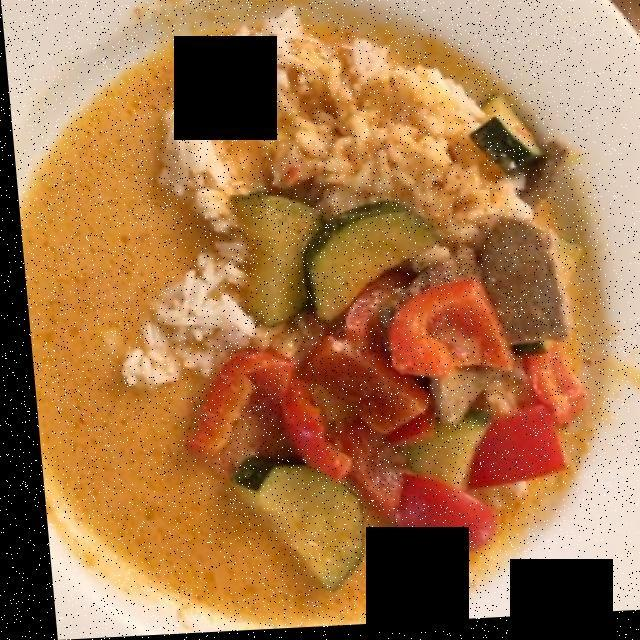chicken-curry: (46, 97, 579, 610)
pork: (424, 154, 563, 430)
rice: (131, 29, 525, 394)
